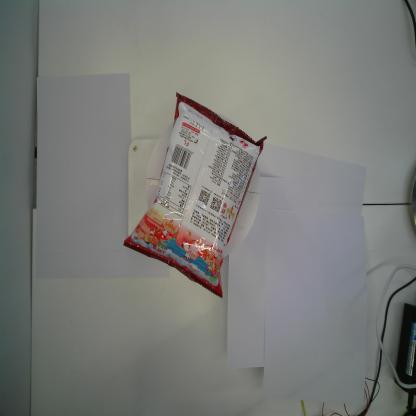Puffed Food: (123, 92, 267, 300)
